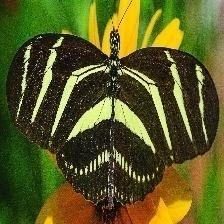butterfly: (7, 32, 220, 204)
